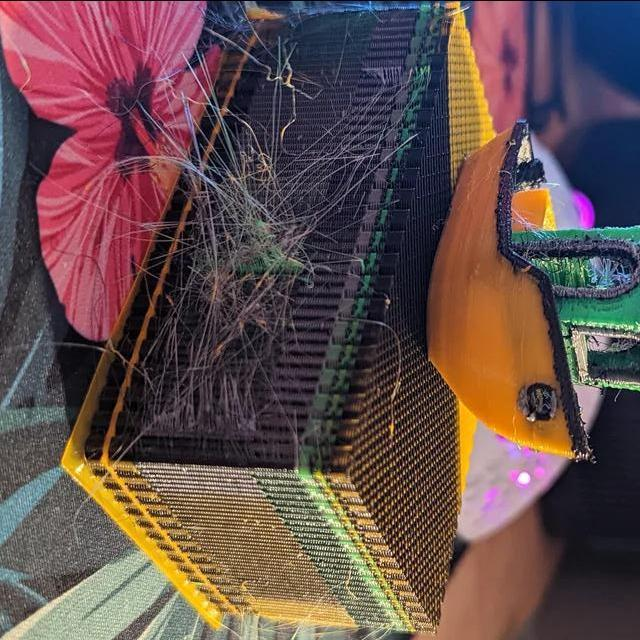stringing: (145, 315, 264, 437), (186, 190, 302, 312), (284, 141, 364, 209), (178, 125, 241, 199), (346, 80, 406, 146), (551, 255, 617, 291)
